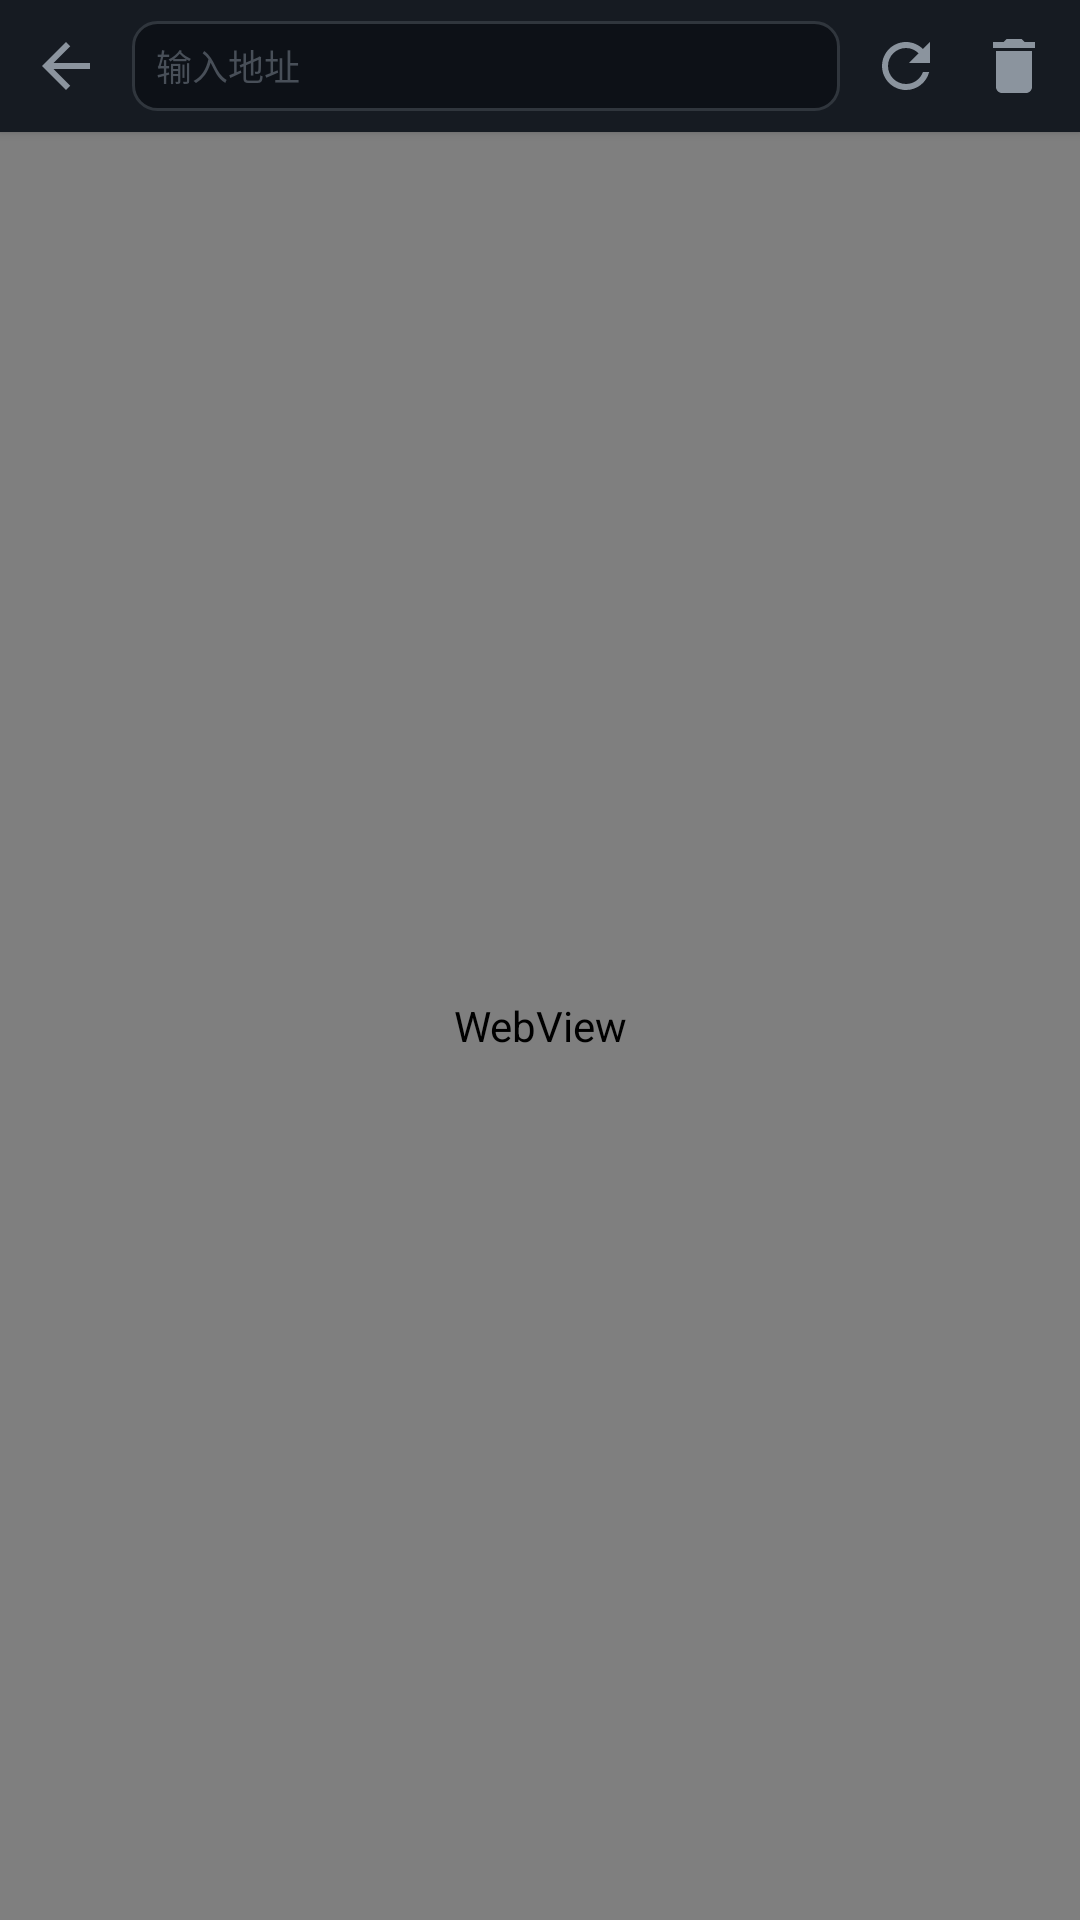

Icons on this 1080w x 1920h Android screen, each with its box as (x1, y1, x2, y2):
刷新: (882, 42, 930, 90)
返回: (42, 42, 90, 90)
